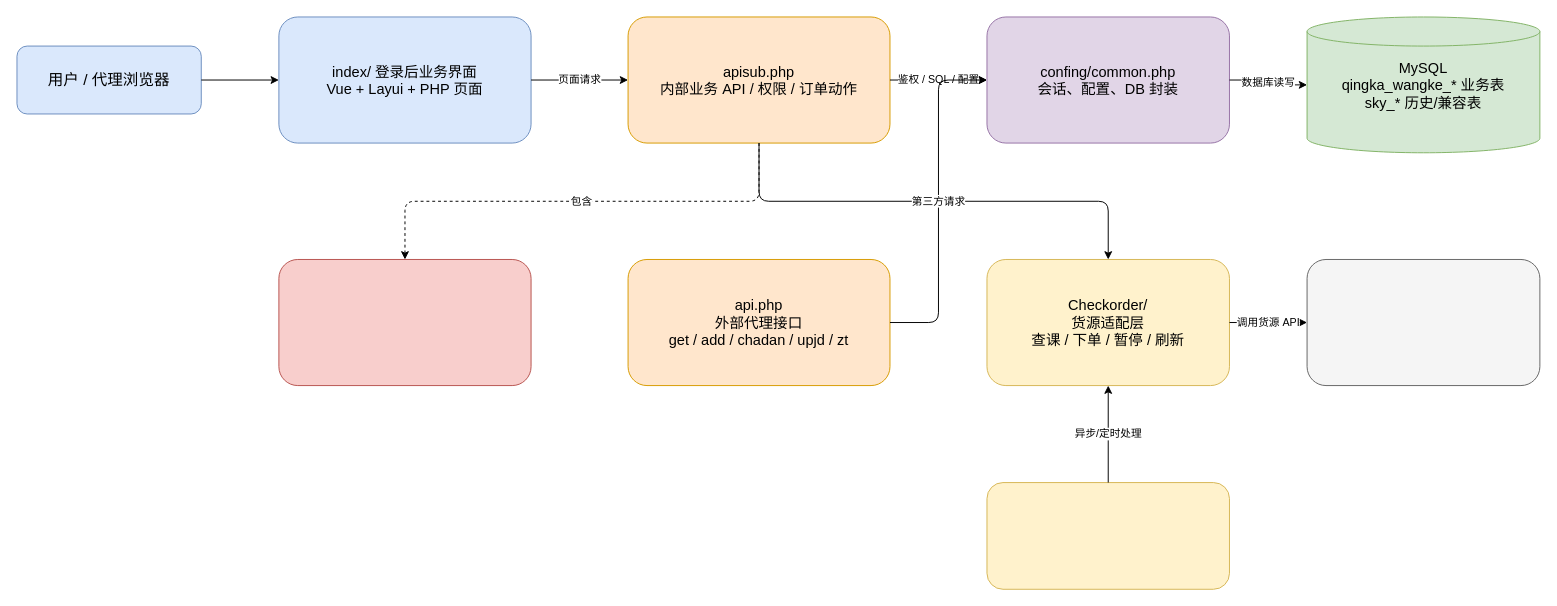
Some shapes in this 1557 by 606 pixel diagram are drawn without their labels. Here are the shapes that lost their labels. From the top down, the box of each, then its label:
(278, 259, 531, 386): 高风险授权逻辑 apisub.php 顶部固定密钥 远程校验 / 写文件 / 删目录
(1306, 259, 1540, 386): 外部货源平台 27 / 29 / 2xx / xm / benz 等
(986, 482, 1229, 589): cron/ + redis/ 定时同步、批量处理、队列脚本
